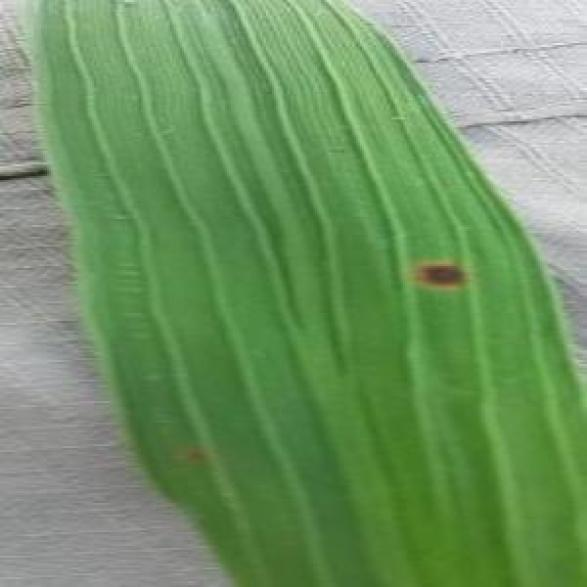Brown_Spot: (391, 241, 478, 301), (170, 436, 214, 470)
